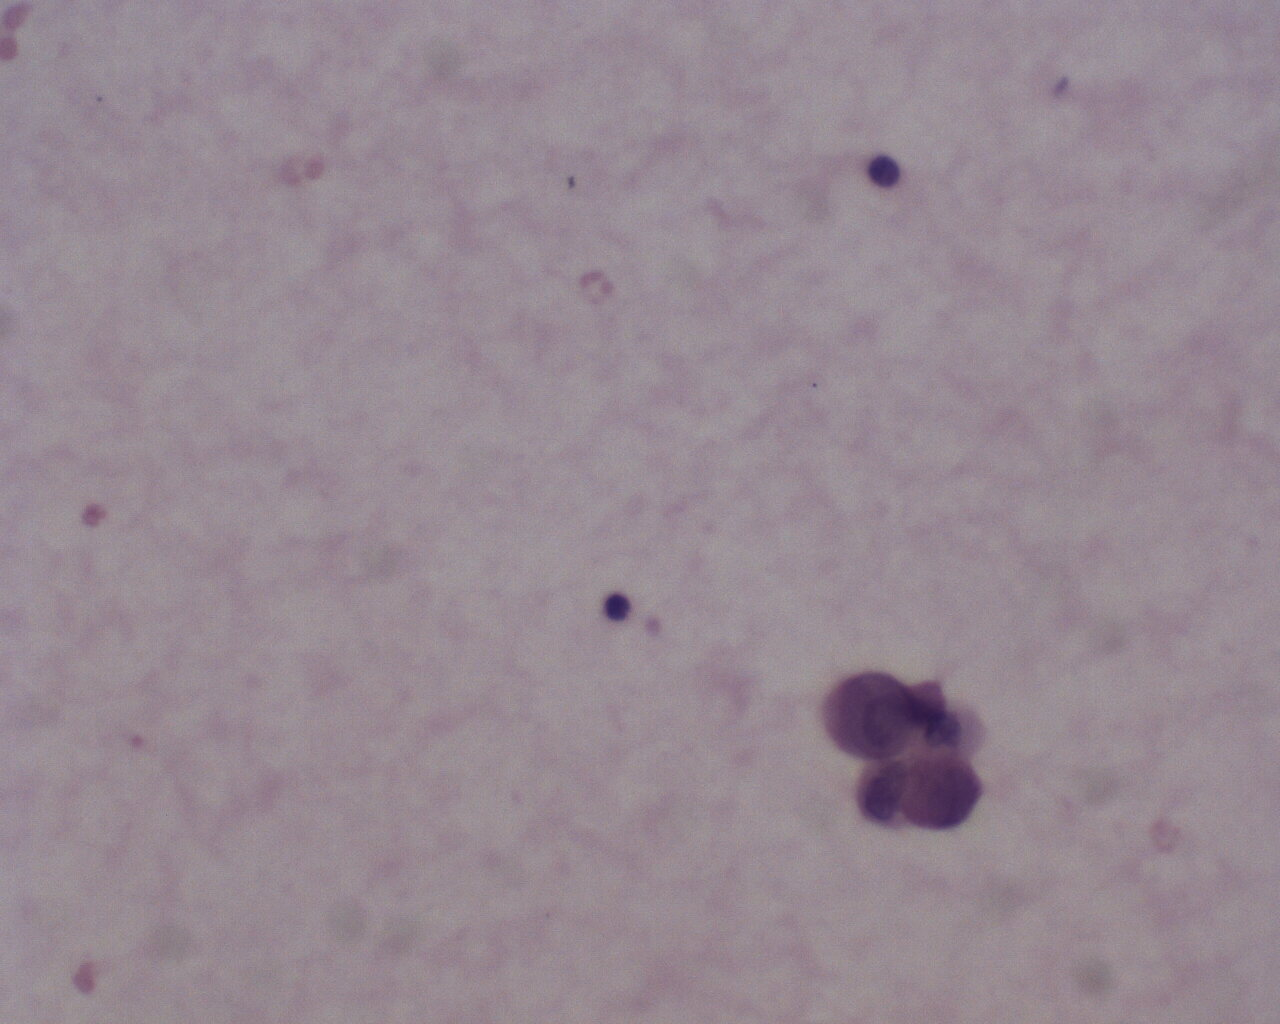ab: (820, 667, 922, 760), (903, 747, 985, 836)
lymph: (591, 586, 637, 632), (863, 152, 907, 192)
